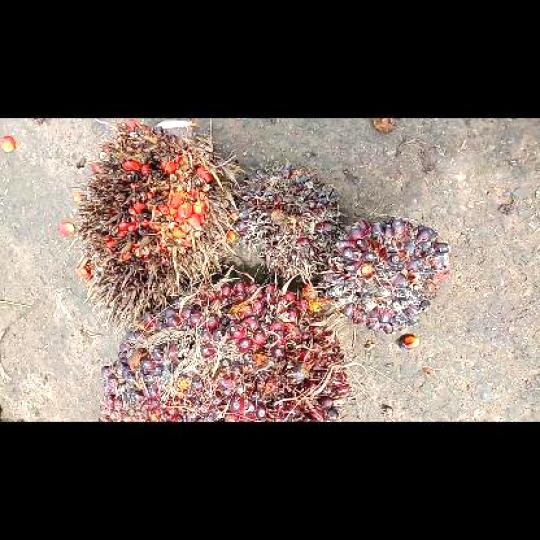masak: (96, 281, 351, 420)
terlalu masak: (69, 120, 237, 332)
